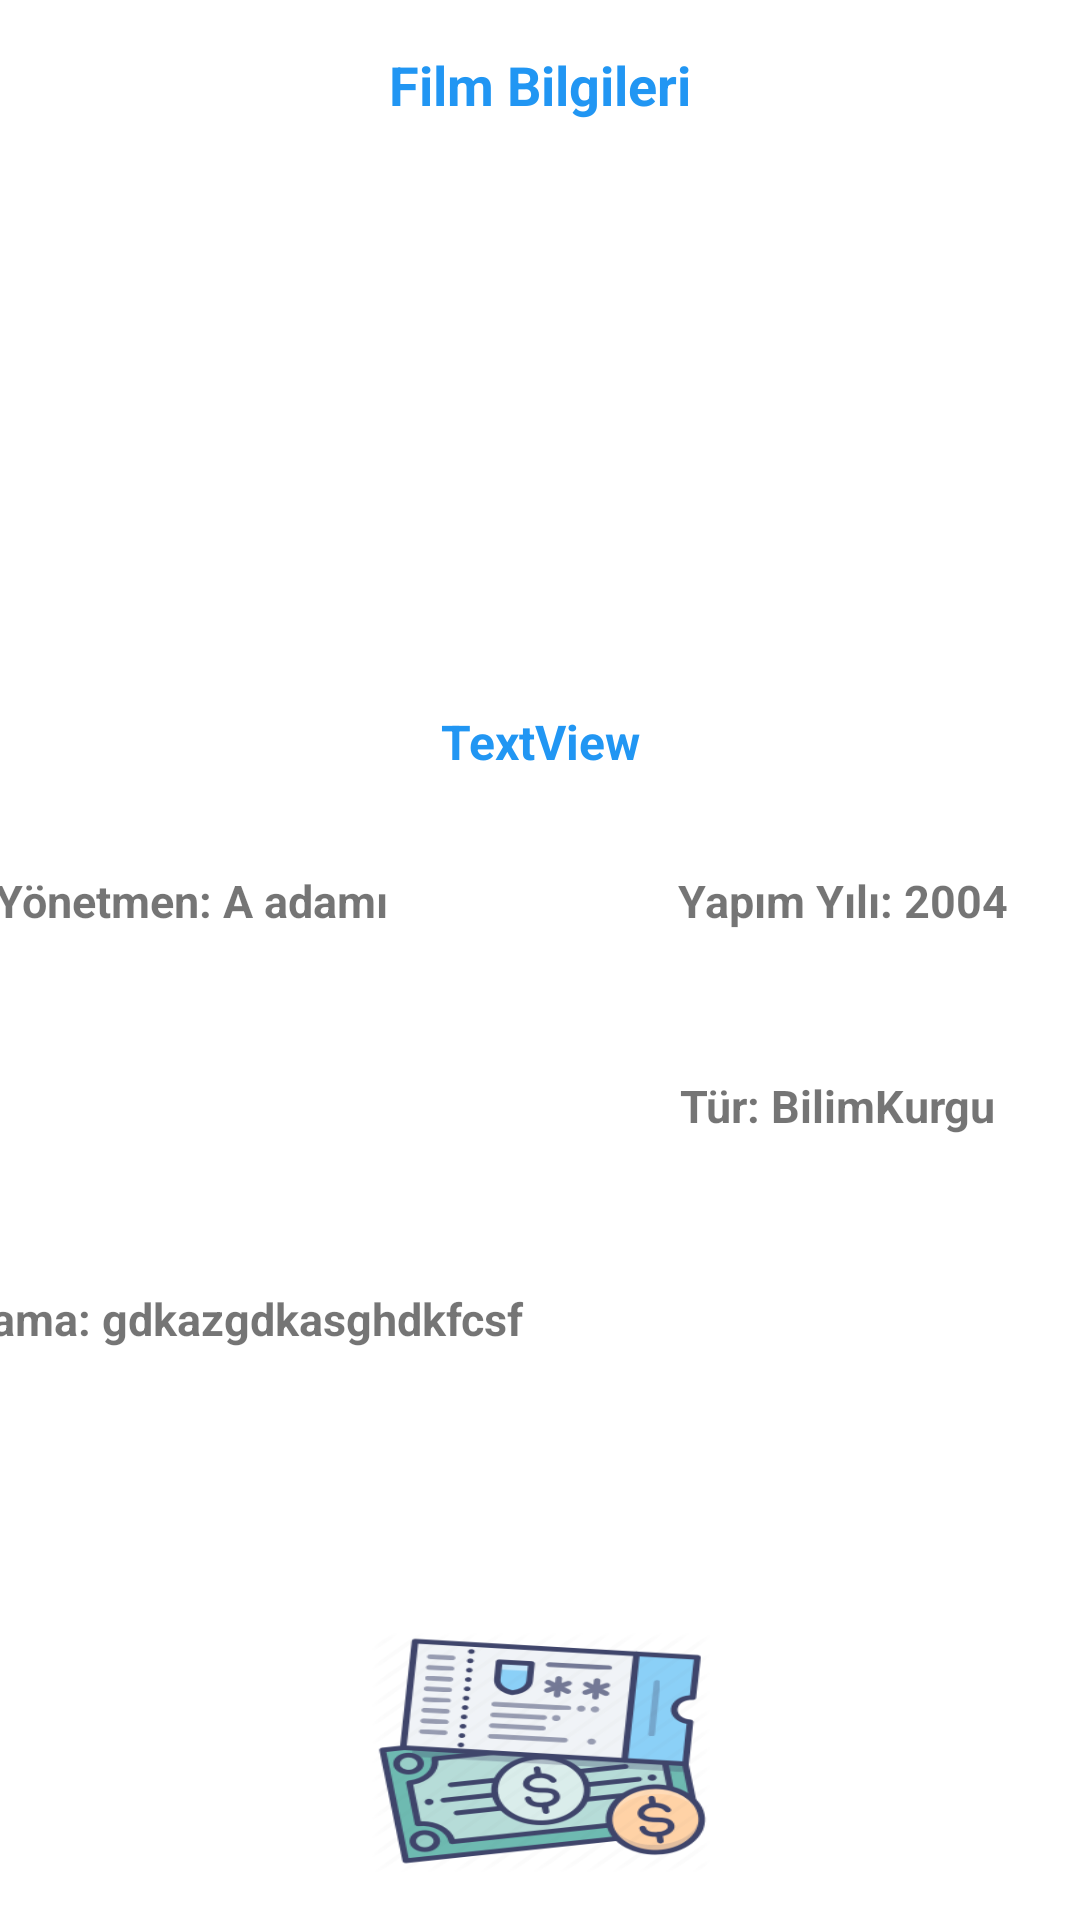

Screen size 1080px x 1920px. Icon name, then its box in pixels as [x1, y1, x2, y2]:
bilet: [379, 1638, 706, 1864]
